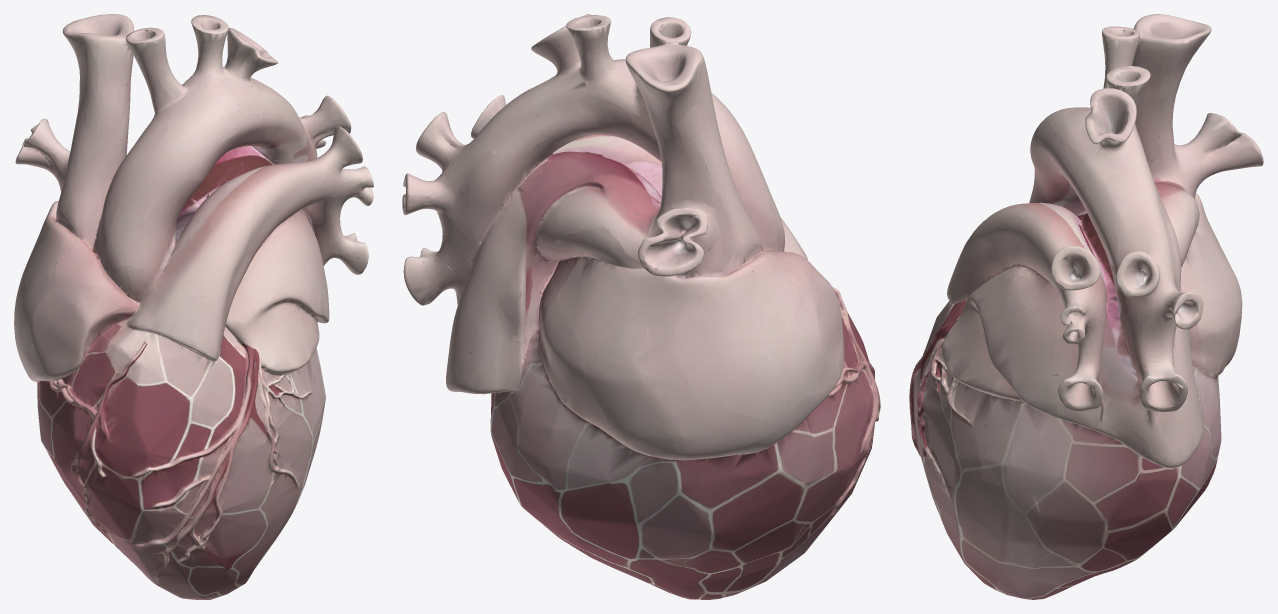
The model's file is rose-heart.glb.
3 views of the same model, side by side, from view 1: azimuth 30°, elevation 25°; view 2: azimuth 150°, elevation 25°; view 3: azimuth 270°, elevation 25° (orthographic). The views are drawn at different scales.
Parts seen in each view (by area): view 1: Mesh_0.002; view 2: Mesh_0.002; view 3: Mesh_0.002.
Part boxes in pixels (x1,y1,x2,y2): Mesh_0.002: (14, 14, 373, 599); Mesh_0.002: (402, 14, 880, 599); Mesh_0.002: (909, 14, 1263, 599).
Size of the model in its own units: 1.24 by 1.9 by 1.09.
Materials: 1 (1 with a texture image).
